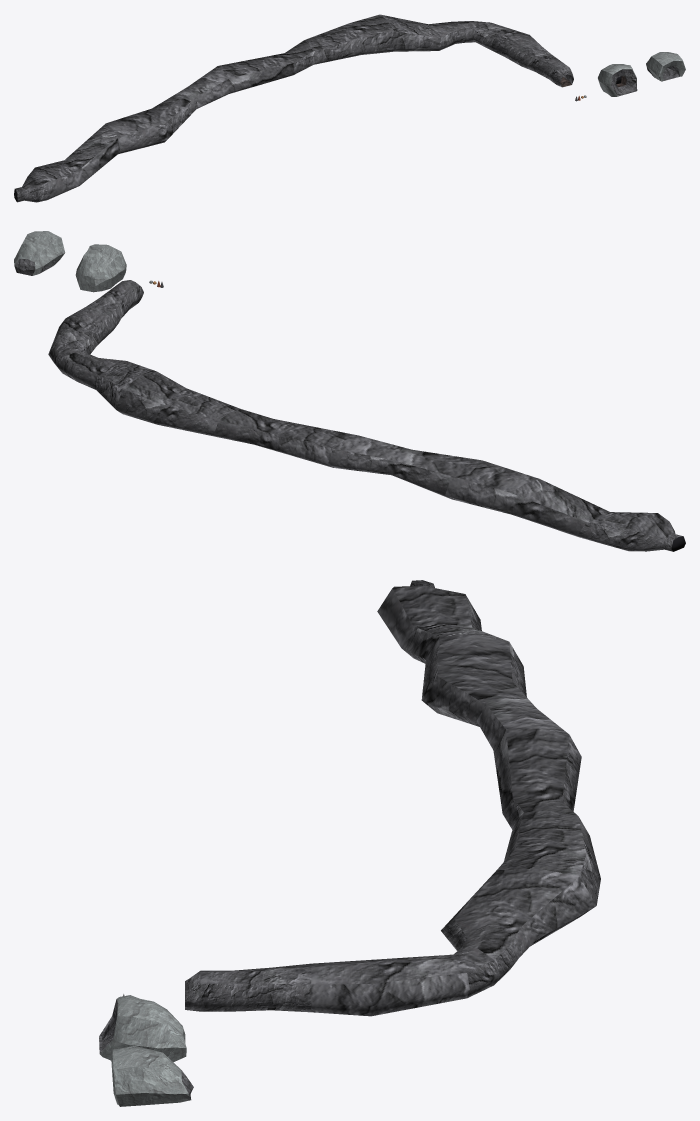
The model's file is Cavern_1.fbx.
3 views of the same model, one above another, from view 1: azimuth 30°, elevation 25°; view 2: azimuth 150°, elevation 25°; view 3: azimuth 270°, elevation 25° (orthographic). The views are drawn at different scales.
Parts seen in each view (by area): view 1: Caverna_Inside, Caverna_2, Caverna_1; view 2: Caverna_Inside, Caverna_2, Caverna_1; view 3: Caverna_Inside, Caverna_1, Caverna_2.
Part boxes in pixels (box(x1,y1,x2,y2)): Caverna_Inside: box(14, 14, 573, 202); Caverna_2: box(598, 64, 637, 96); Caverna_1: box(646, 52, 685, 81); Caverna_Inside: box(48, 280, 685, 551); Caverna_2: box(75, 244, 126, 292); Caverna_1: box(14, 231, 65, 275); Caverna_Inside: box(185, 580, 600, 1016); Caverna_1: box(111, 1046, 193, 1106); Caverna_2: box(99, 995, 186, 1061).
Size of the model in its own units: 61479 by 6076 by 22417.
